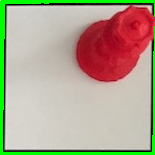Red Queen: (73, 3, 155, 87)
